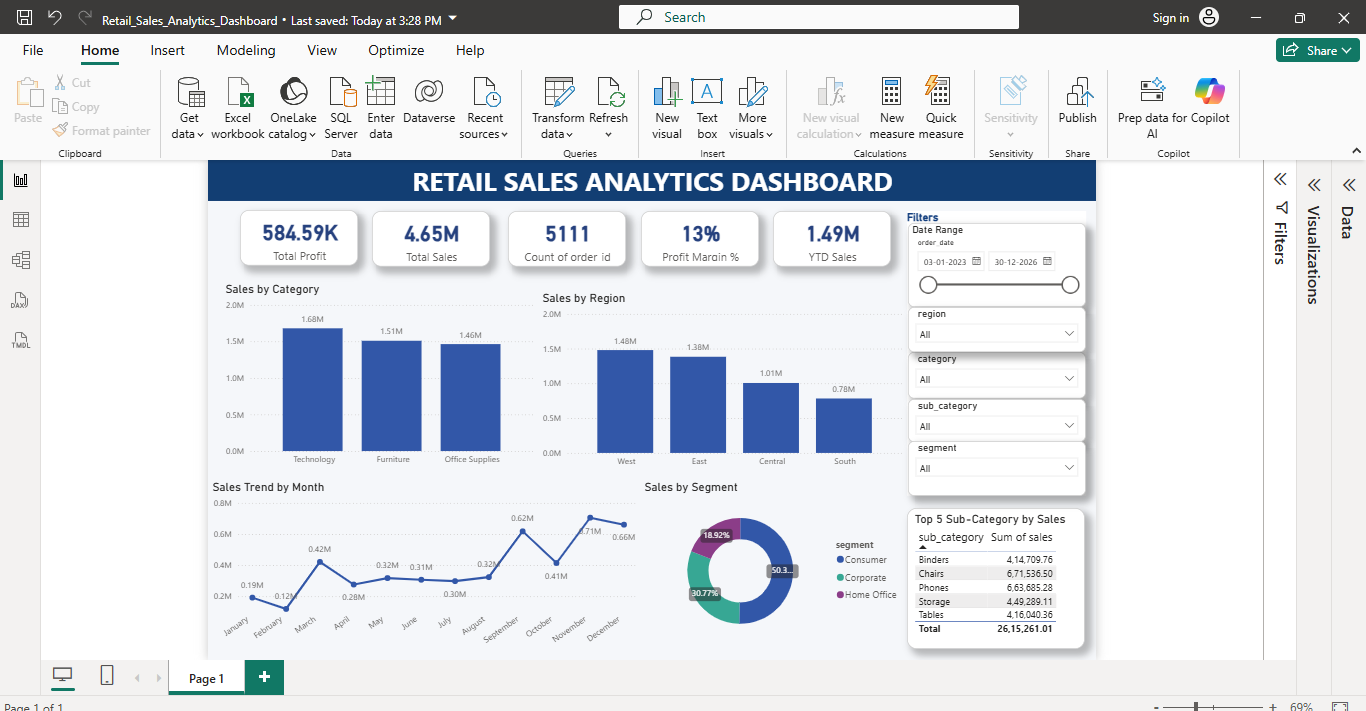

This screenshot's page, from the dashboard's own definition file:
{"tool":"powerbi","page":{"name":"Page 1","canvas":[1280,720],"ordinal":0},"visuals":[{"type":"card","fields":{"Values":["retail_sales superstore.Total Profit"]},"box":[46.1,71.8,170,80],"z":0},{"type":"card","fields":{"Values":["Count(retail_sales superstore.order_id)"]},"box":[432.4,73.5,170,80],"z":1000},{"type":"clusteredColumnChart","title":"Sales by Category","fields":{"Y":["Sum(retail_sales superstore.sales)"],"Category":["retail_sales superstore.category"]},"box":[20.5,176,456.3,273.4],"z":2000},{"type":"lineChart","title":"Sales Trend by Month","fields":{"Category":["retail_sales superstore.order_date.Variation.Date Hierarchy.Month"],"Y":["Sum(retail_sales superstore.sales)"]},"box":[1.7,461.4,622.1,258.1],"z":3000},{"type":"clusteredColumnChart","title":"Sales by Region","fields":{"Category":["retail_sales superstore.region"],"Y":["Sum(retail_sales superstore.sales)"]},"box":[476.8,188,529.8,263.2],"z":4000},{"type":"card","fields":{"Values":["retail_sales superstore.Profit Margin %"]},"box":[623.8,73.5,170,80],"z":5000},{"type":"card","fields":{"Values":["retail_sales superstore.YTD Sales"]},"box":[813.5,73.5,170,80],"z":6000},{"type":"card","fields":{"Values":["retail_sales superstore.Total Sales"]},"box":[235.8,73.5,170,80],"z":7000},{"type":"shape","box":[0,0,1280.2,59],"z":8000},{"type":"tableEx","title":"Top 5 Sub-Category by Sales","fields":{"Values":["retail_sales superstore.sub_category","Sum(retail_sales superstore.sales)"]},"box":[1006.6,500.7,256.3,203.4],"z":9000},{"type":"shape","title":"Filters","box":[1006.6,73.5,258.1,410.1],"z":9500},{"type":"donutChart","title":"Sales by Segment","fields":{"Category":["retail_sales superstore.segment"],"Y":["Sum(retail_sales superstore.sales)"]},"box":[623.8,461.4,382.8,242.7],"z":10000},{"type":"slicer","title":"Date Range","fields":{"Values":["retail_sales superstore.order_date"]},"box":[1008.3,90.6,256.3,121.3],"z":14500},{"type":"slicer","fields":{"Values":["retail_sales superstore.category"]},"box":[1008.3,276.8,256.3,66.6],"z":14750},{"type":"slicer","fields":{"Values":["retail_sales superstore.sub_category"]},"box":[1008.3,343.5,256.3,61.5],"z":15000},{"type":"slicer","fields":{"Values":["retail_sales superstore.region"]},"box":[1008.3,211.9,256.3,64.9],"z":15500},{"type":"slicer","fields":{"Values":["retail_sales superstore.segment"]},"box":[1008.3,405,256.3,78.6],"z":16000}]}

Visuals, with their boxes on the page's 1280x720 design canvas (x1, y1, x2, y2). These are canvas units, not pixel positions in the 1366x711 screenshot, which may show the page scaled, cropped or inside an application window:
card - retail_sales superstore.Total Profit: l=46, t=72, r=216, b=152
card - Count(retail_sales superstore.order_id): l=432, t=74, r=602, b=154
"Sales by Category" clusteredColumnChart: l=20, t=176, r=477, b=449
"Sales Trend by Month" lineChart: l=2, t=461, r=624, b=720
"Sales by Region" clusteredColumnChart: l=477, t=188, r=1007, b=451
card - retail_sales superstore.Profit Margin %: l=624, t=74, r=794, b=154
card - retail_sales superstore.YTD Sales: l=814, t=74, r=984, b=154
card - retail_sales superstore.Total Sales: l=236, t=74, r=406, b=154
shape: l=0, t=0, r=1280, b=59
"Top 5 Sub-Category by Sales" tableEx: l=1007, t=501, r=1263, b=704
"Filters" shape: l=1007, t=74, r=1265, b=484
"Sales by Segment" donutChart: l=624, t=461, r=1007, b=704
"Date Range" slicer: l=1008, t=91, r=1265, b=212
slicer - retail_sales superstore.category: l=1008, t=277, r=1265, b=343
slicer - retail_sales superstore.sub_category: l=1008, t=344, r=1265, b=405
slicer - retail_sales superstore.region: l=1008, t=212, r=1265, b=277
slicer - retail_sales superstore.segment: l=1008, t=405, r=1265, b=484
